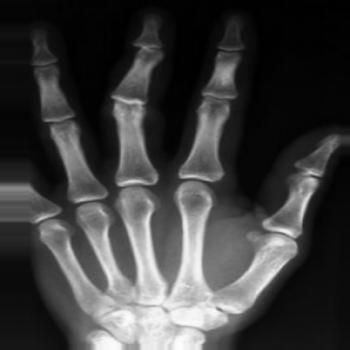Fracture: (124, 38, 168, 58)
